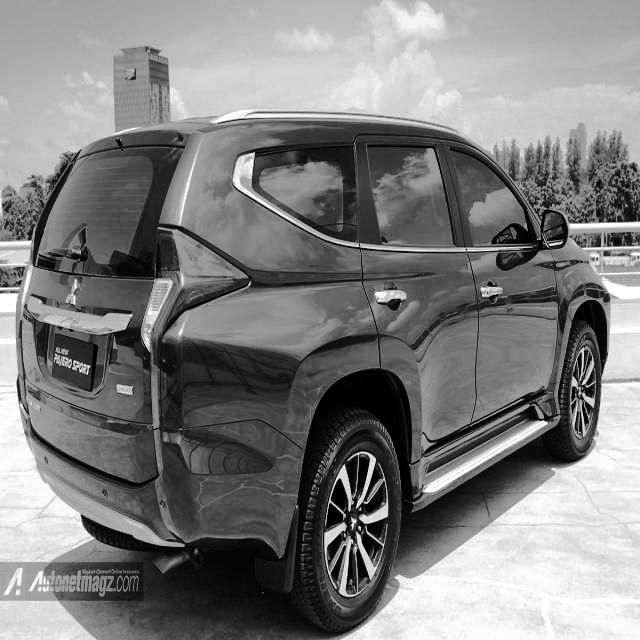Car: (0, 101, 615, 627)
